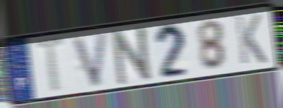2: (154, 20, 194, 83)
8: (195, 18, 228, 72)
K: (233, 12, 268, 66)
N: (111, 24, 155, 88)
T: (33, 35, 69, 96)
V: (70, 30, 110, 89)
